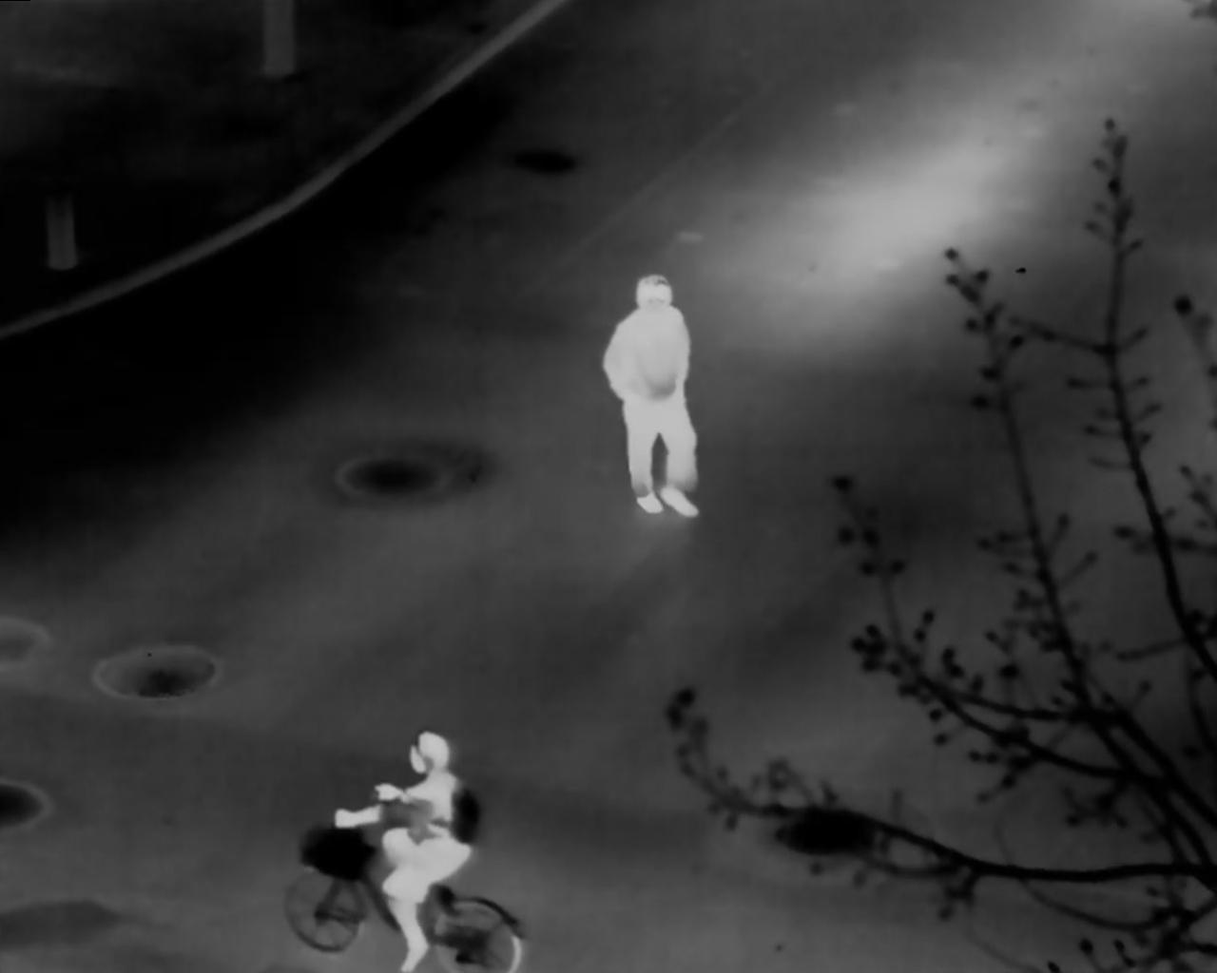person: (335, 731, 484, 973), (600, 270, 701, 519)
